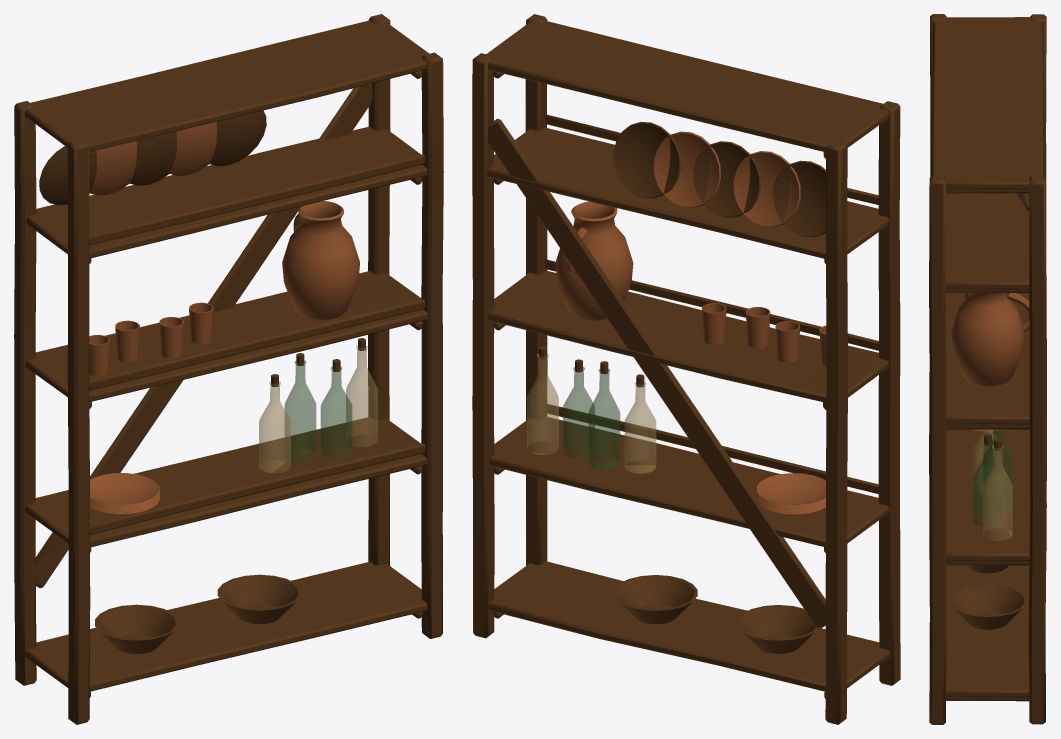
File: regal.glb
3 views of the same model, side by side, from view 1: azimuth 30°, elevation 25°; view 2: azimuth 150°, elevation 25°; view 3: azimuth 270°, elevation 25° (orthographic). The views are drawn at different scales.
Visible parts, largest first — view 1: regal; view 2: regal; view 3: regal.
Boxes of the visible parts, x1=… form: regal: x1=14, y1=14, x2=443, y2=724; regal: x1=472, y1=14, x2=900, y2=724; regal: x1=929, y1=14, x2=1046, y2=724.
Bounding box in the file's own units: 1.2 × 1.8 × 0.3538.
